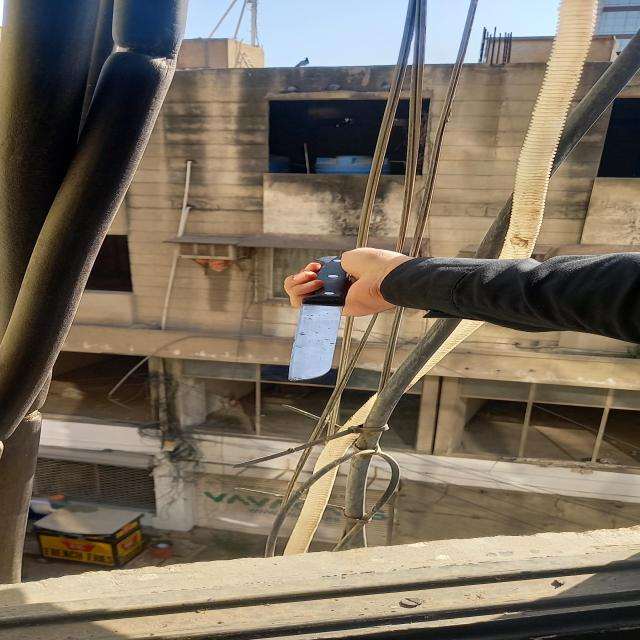Knife: (288, 256, 358, 379)
Person: (297, 246, 640, 342)
